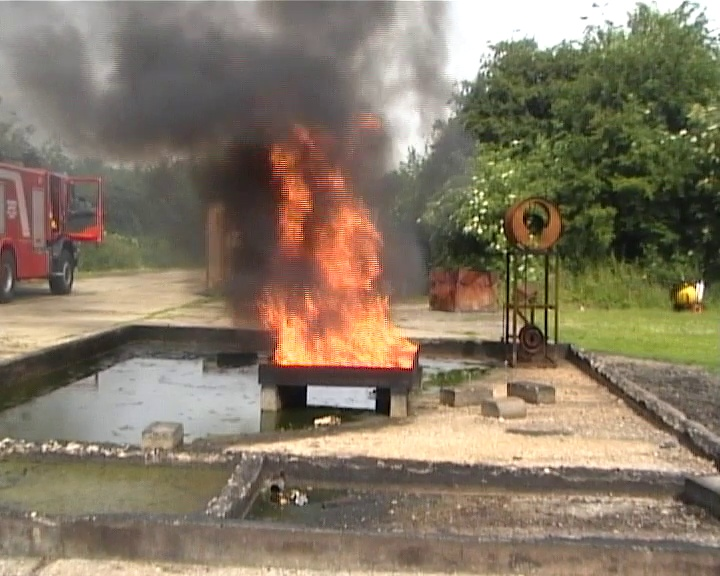fire: (257, 166, 410, 365)
